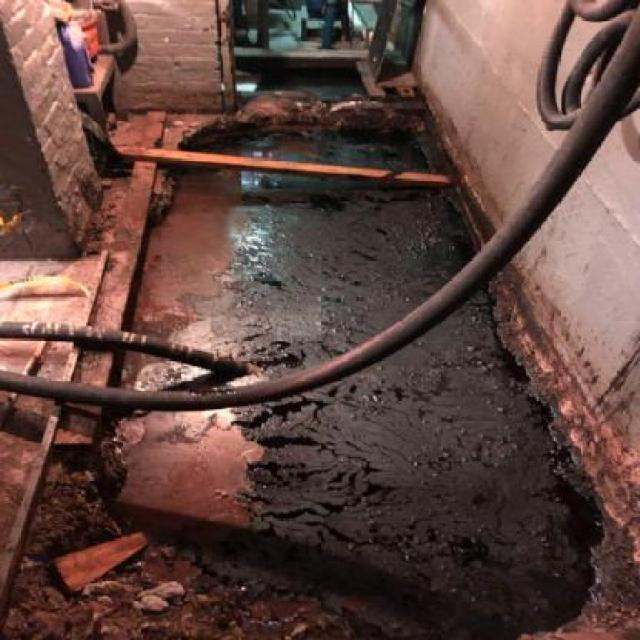spillage: (190, 284, 600, 640), (194, 167, 477, 375), (260, 127, 450, 172)
